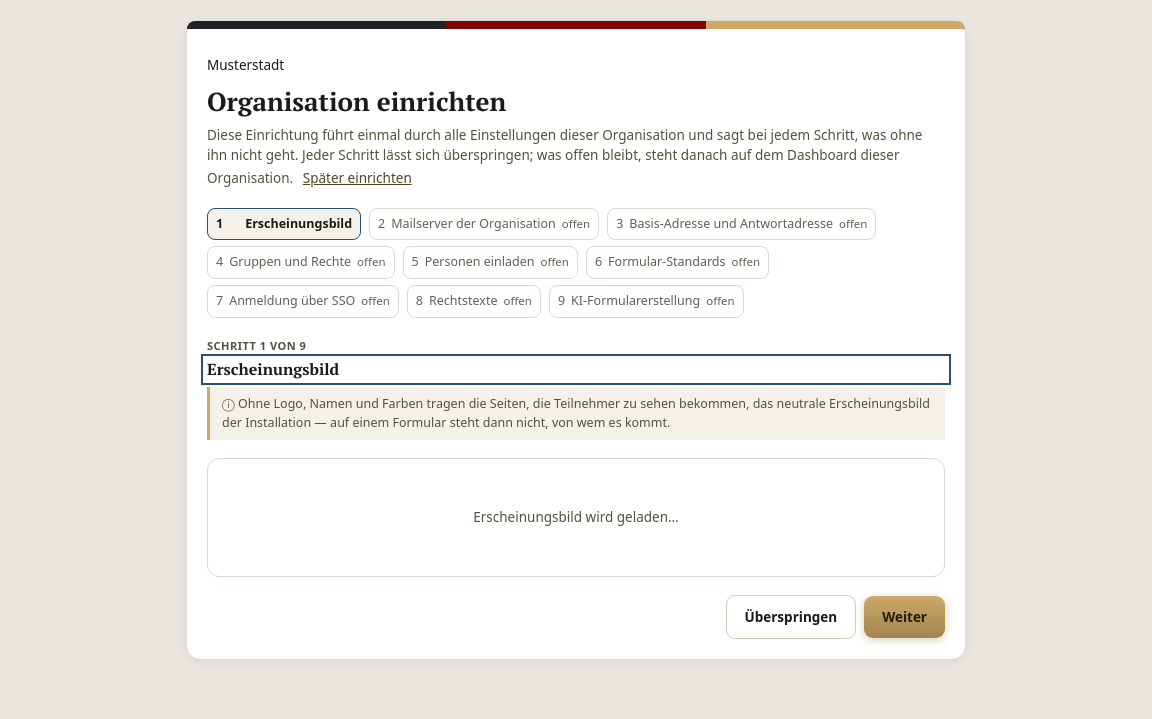
it: TenantSetupView › sagt beim Mailserver das Schärfste: diese Organisation verschickt sonst nichts
Click the button "Überspringen".
click(791, 616)  # box [726,594,856,638]
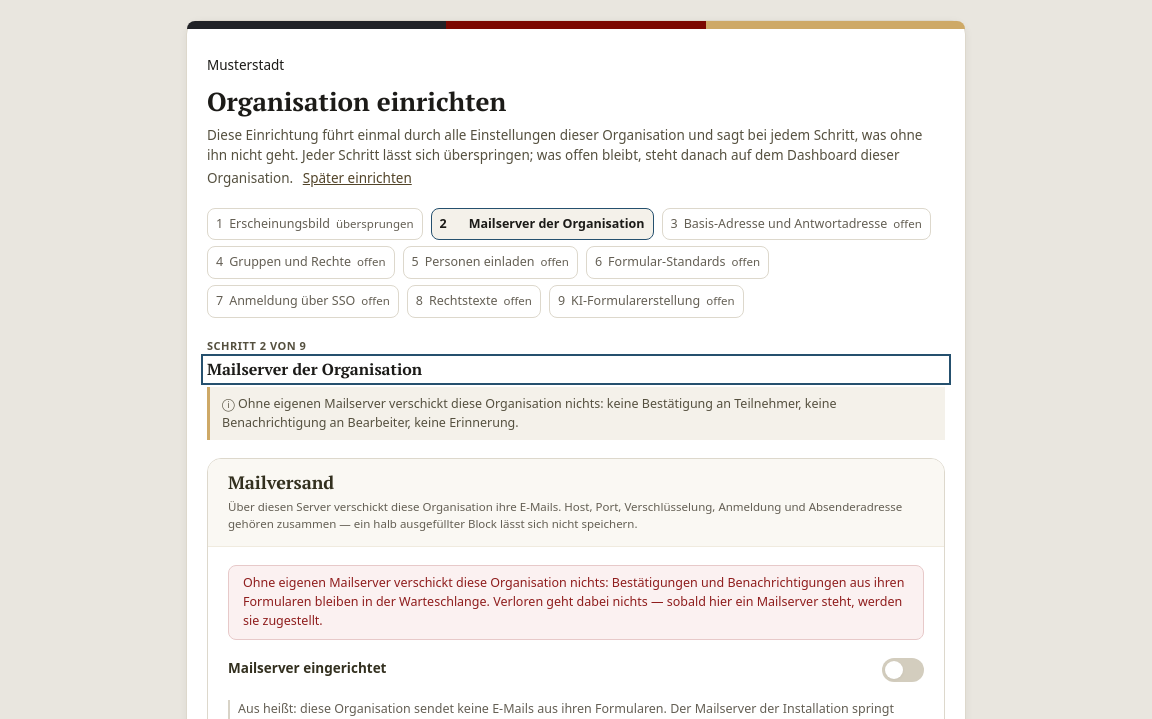
Now the text "verschickt diese Organisation nichts" is shown, box [222,395,837,431]
